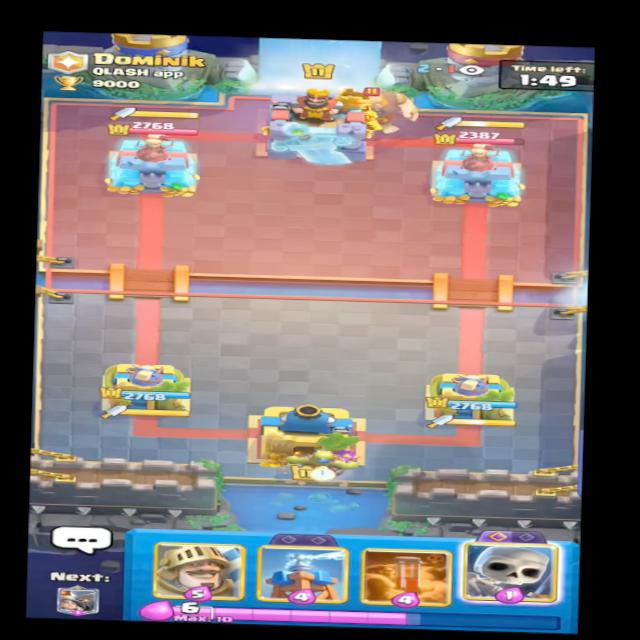giant: (318, 84, 434, 135)
